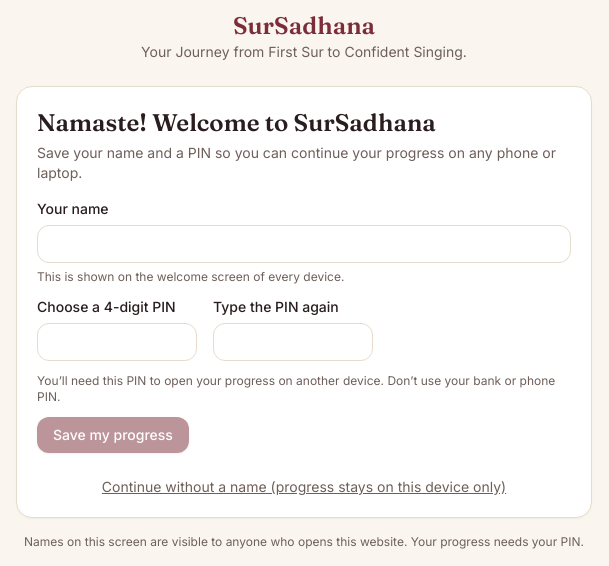
Test case: Who’s practising? (new device) › a new learner saves a name + PIN, then onboards with the name filled in
This screenshot has width=609, height=566.
Expected: the heading "Namaste! Welcome to SurSadhana" is shown, [37,108,436,137]
Type "Asha" into the field labelled "Your name" at (304, 244), box [37,225,571,263]
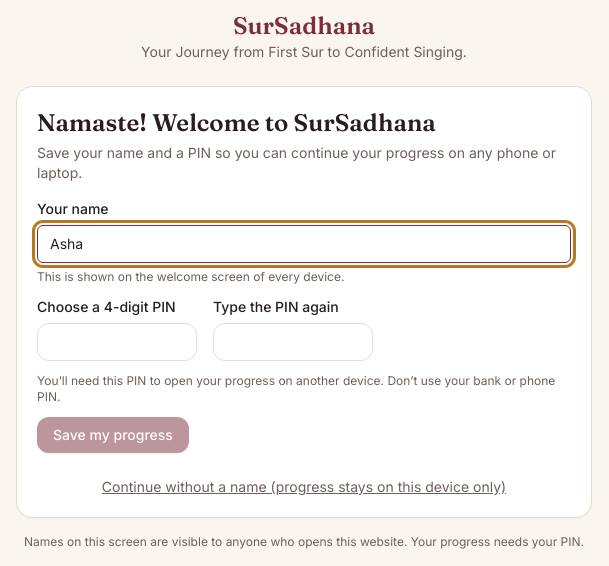
Type "1357" into the password field labelled "Choose a 4-digit PIN" at (117, 342), box [37,323,197,361]
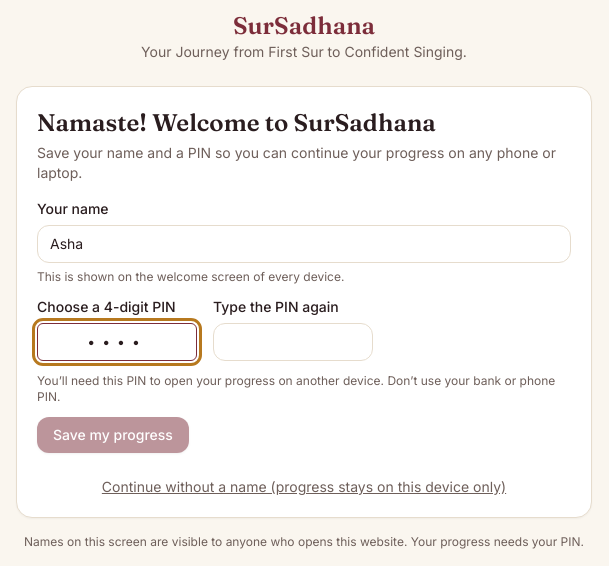
Type "1357" into the password field labelled "Type the PIN again" at (293, 342), box [213,323,373,361]
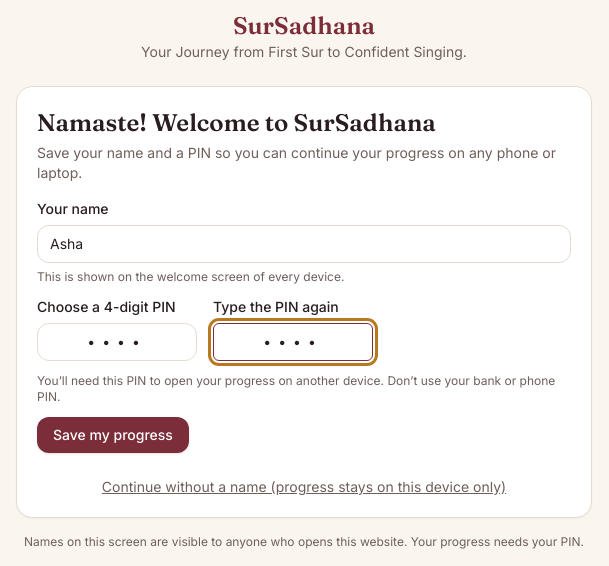
Click the button "Save my progress" at (113, 435), box [37,417,189,453]
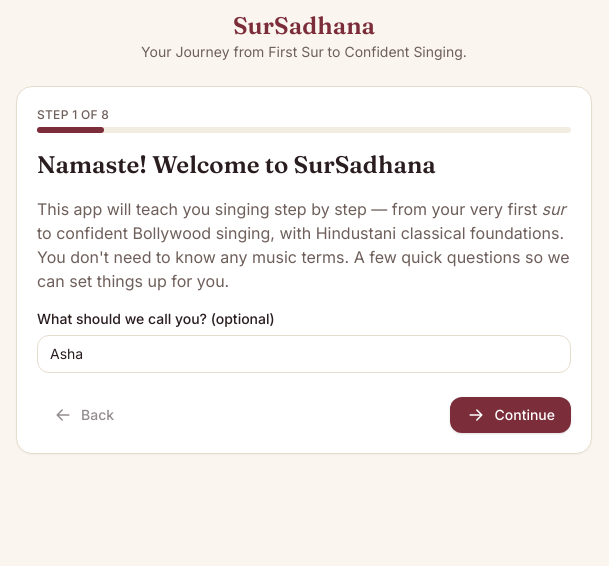
Result: the field labelled "What should we call you? (optional)" holds "Asha" at [37,335,571,373]
